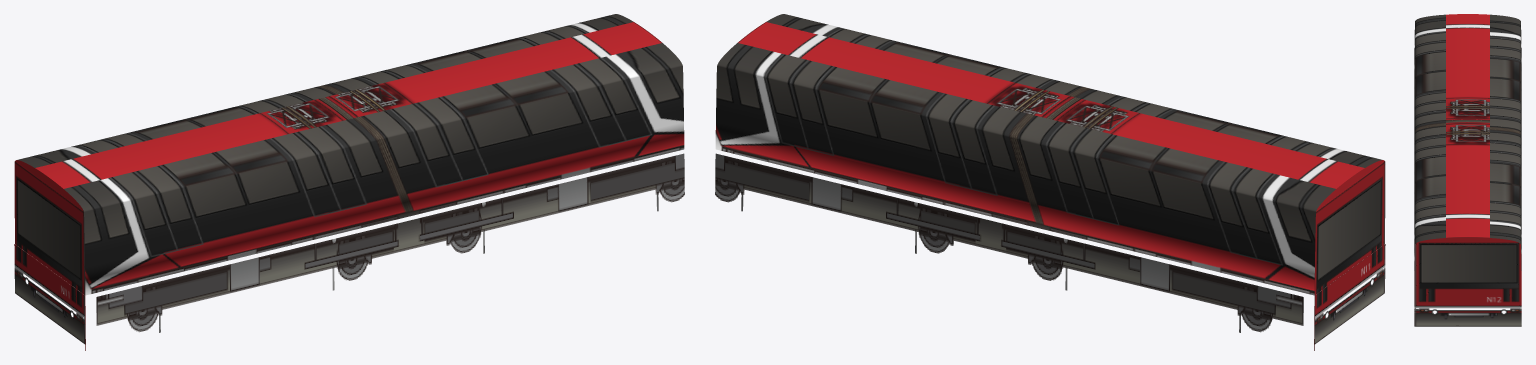
File: car1.glb
3 renders of one model, left to right at view 1: azimuth 30°, elevation 25°; view 2: azimuth 150°, elevation 25°; view 3: azimuth 270°, elevation 25°, orthographic. The views are drawn at different scales.
Parts seen in each view (by area): view 1: nankai-cable-car1; view 2: nankai-cable-car1; view 3: nankai-cable-car1.
Boxes of the visible parts, box(x1,y1,x2,y2) form: nankai-cable-car1: box(14, 14, 684, 350); nankai-cable-car1: box(715, 14, 1385, 350); nankai-cable-car1: box(1414, 14, 1521, 326).
Bounding box in the file's own units: 14.05 × 3.3 × 2.85.
8 materials, 7 textured.
